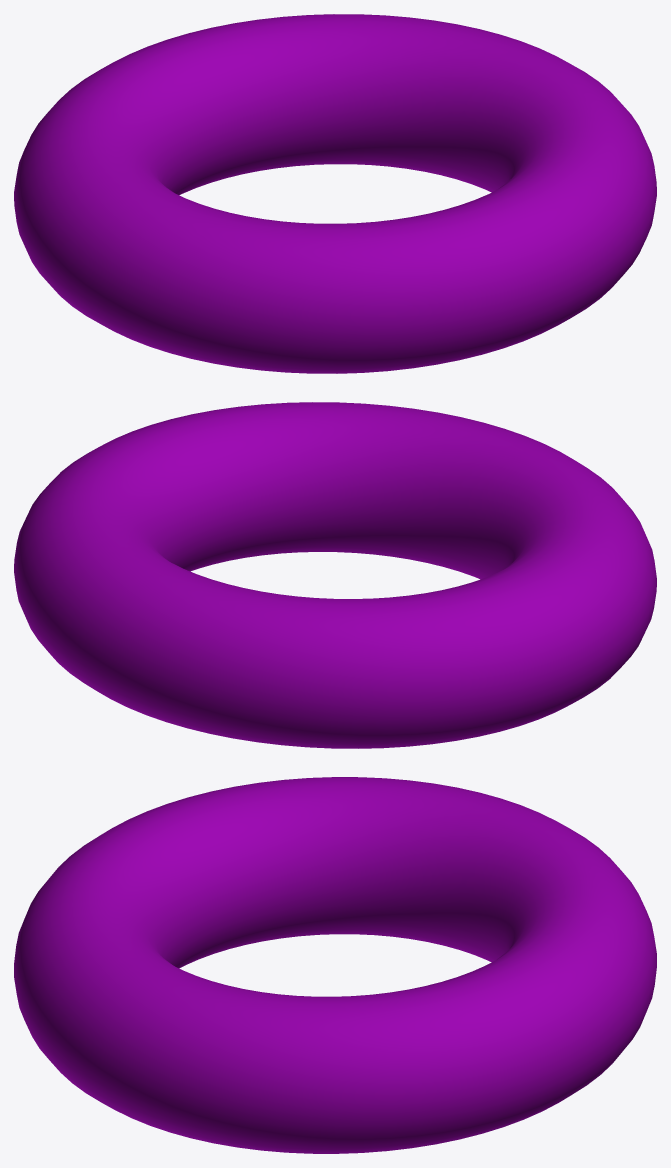
Rendered from monster_saucer1.fbx.
3 renders of one model, top to bottom at view 1: azimuth 30°, elevation 25°; view 2: azimuth 150°, elevation 25°; view 3: azimuth 270°, elevation 25°, orthographic. The views are drawn at different scales.
Visible parts, largest first — view 1: Torus_001; view 2: Torus_001; view 3: Torus_001.
Boxes of the visible parts, x1,y1,x2,y2 form: Torus_001: (14, 14, 656, 373); Torus_001: (14, 402, 656, 748); Torus_001: (14, 777, 656, 1153).
Bounding box in the file's own units: 1.76 × 0.4319 × 1.67.
